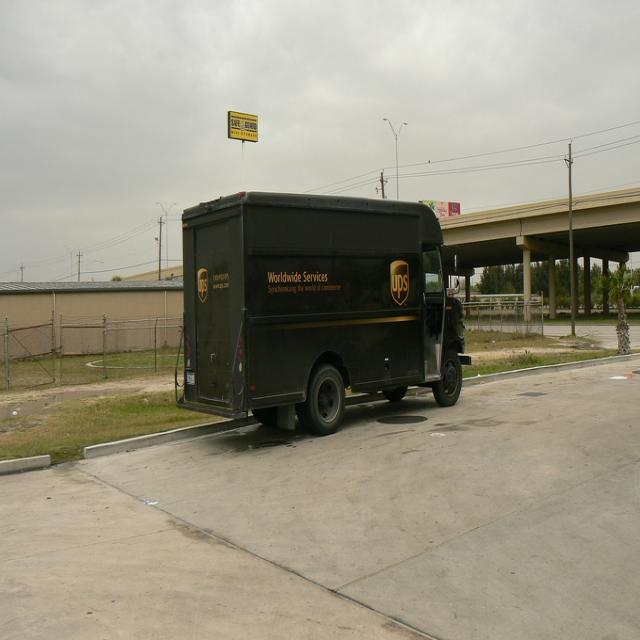ups: (391, 262, 410, 307), (199, 268, 209, 303)
